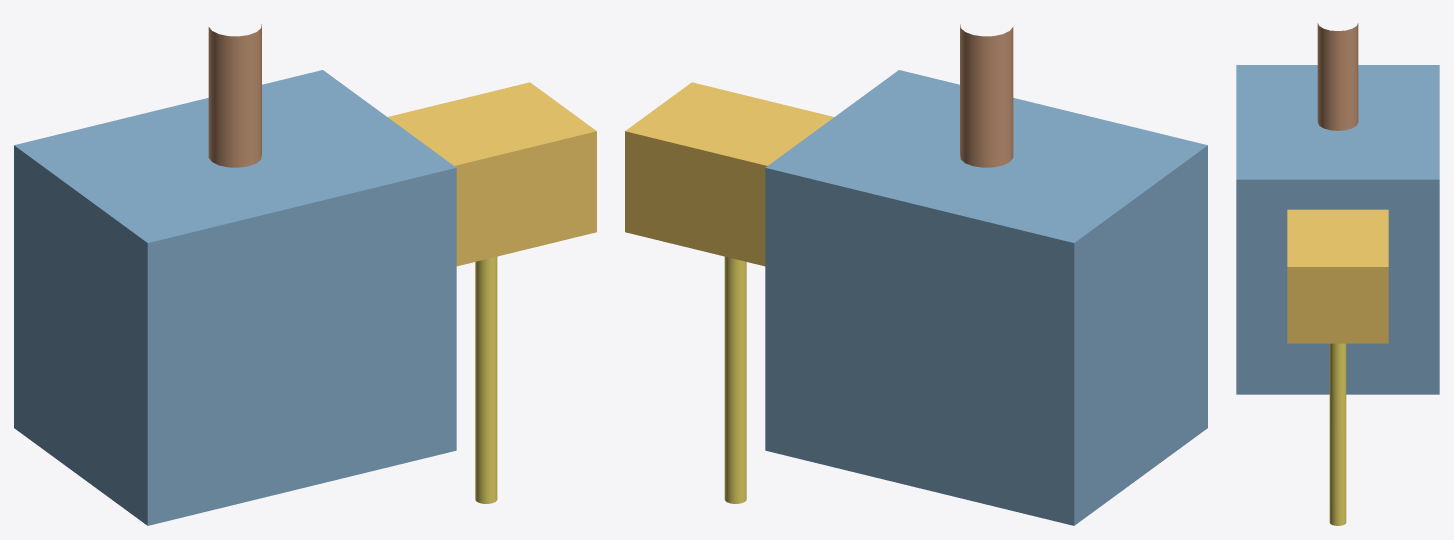
Rendered from electrical_installation_testing.glb.
3 renders of one model, left to right at view 1: azimuth 30°, elevation 25°; view 2: azimuth 150°, elevation 25°; view 3: azimuth 270°, elevation 25°, orthographic. The views are drawn at different scales.
Visible parts, largest first — view 1: DistributionTransformerTank, MeggerInsulationTester, HVPorcelainBushings, EarthResistanceElectrode; view 2: DistributionTransformerTank, MeggerInsulationTester, HVPorcelainBushings, EarthResistanceElectrode; view 3: DistributionTransformerTank, MeggerInsulationTester, HVPorcelainBushings, EarthResistanceElectrode.
Boxes of the visible parts, x1,y1,x2,y2 form: DistributionTransformerTank: [14, 70, 456, 525]; MeggerInsulationTester: [387, 82, 596, 266]; HVPorcelainBushings: [208, 24, 261, 167]; EarthResistanceElectrode: [475, 256, 497, 503]; DistributionTransformerTank: [765, 70, 1207, 525]; MeggerInsulationTester: [625, 82, 834, 266]; HVPorcelainBushings: [960, 24, 1013, 167]; EarthResistanceElectrode: [724, 256, 746, 503]; DistributionTransformerTank: [1236, 65, 1439, 394]; MeggerInsulationTester: [1287, 209, 1388, 343]; HVPorcelainBushings: [1317, 23, 1358, 130]; EarthResistanceElectrode: [1329, 343, 1346, 525].
Size of the model in its own units: 2.5 by 2.65 by 1.2.
